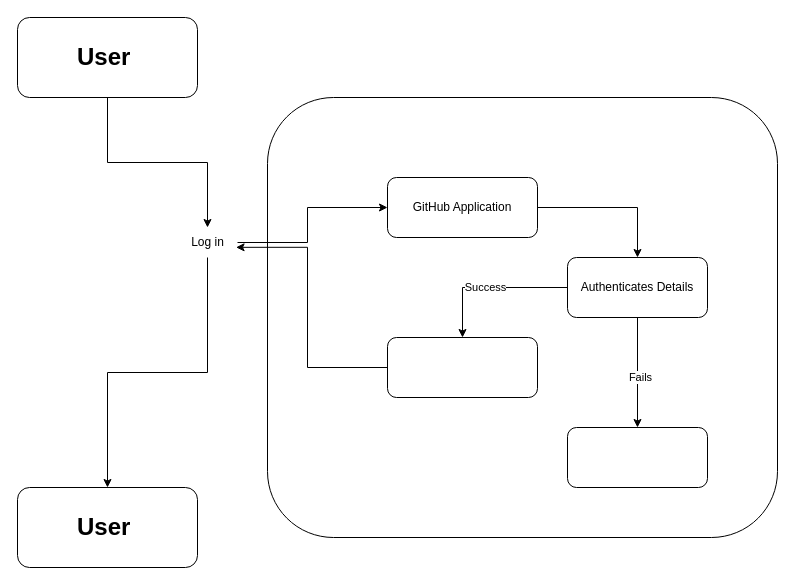
The diagram is 795 pixels wide and 585 high, and some of its shapes have lost their labels. Each missing label, with the centre of its shape:
"Returns All The Necessary Details" belongs at pixel 462 367.
"Show Error Return to Home URL" belongs at pixel 637 457.
